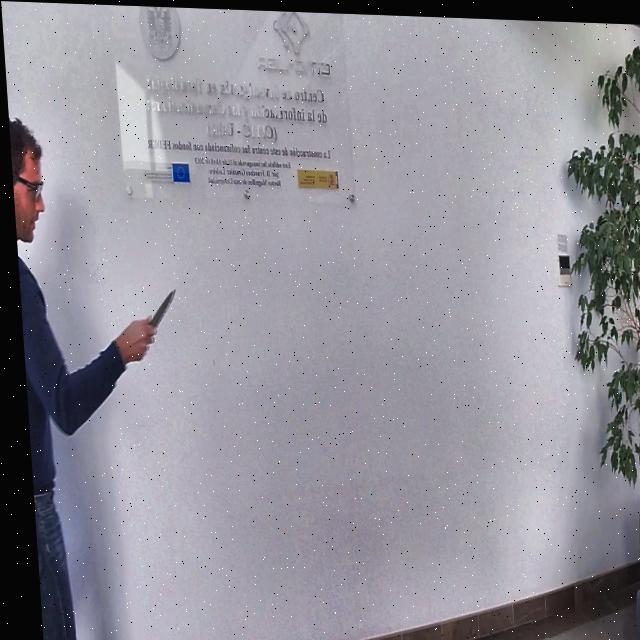knife: (142, 281, 175, 337)
